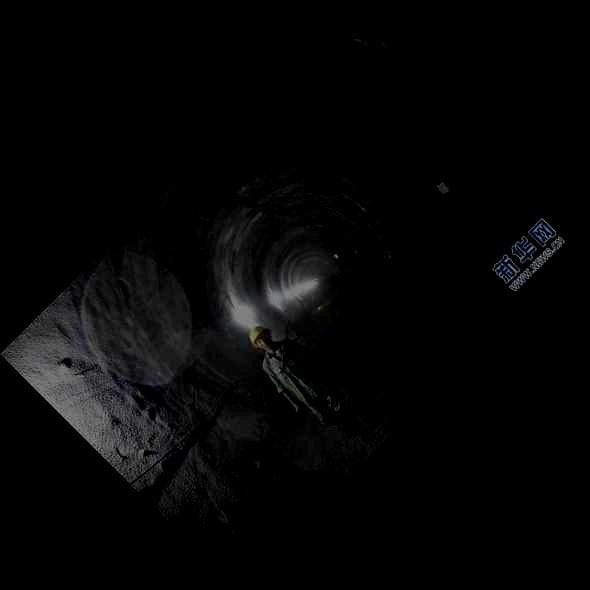helmet: (249, 324, 273, 350)
